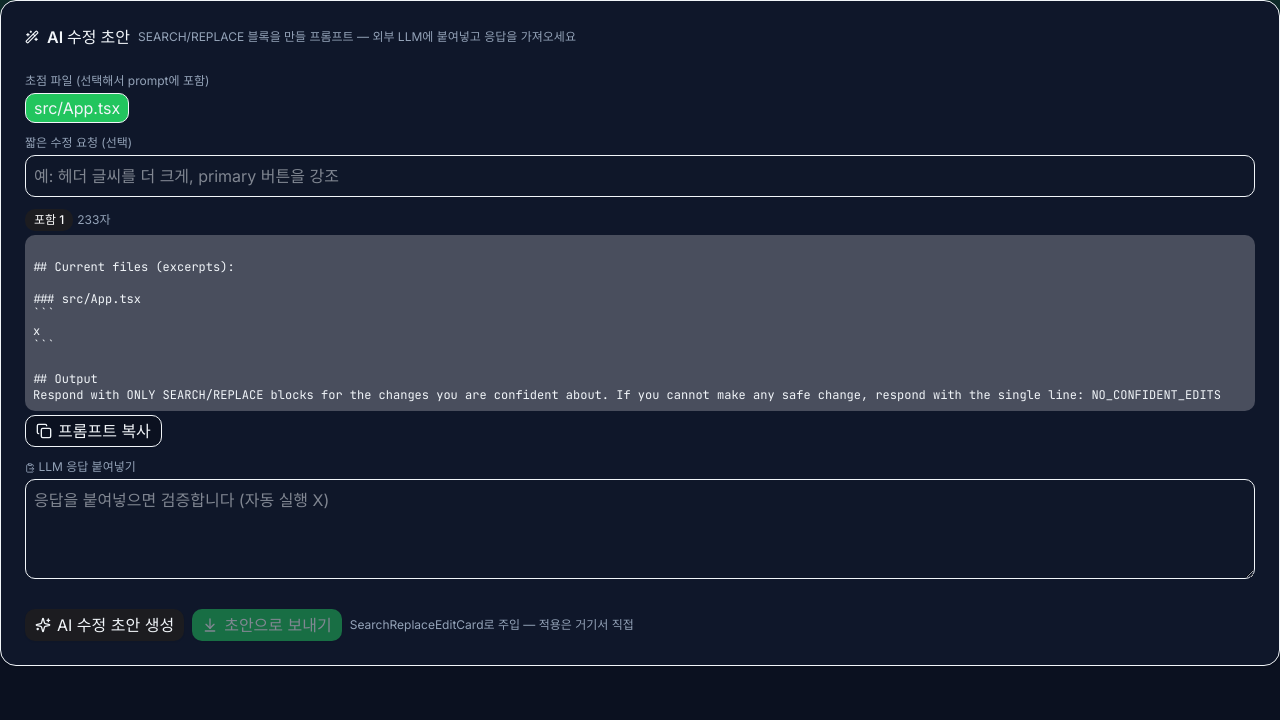
TurboEditDraftCard — OSS-H5 producer surface › (T11 — H6) generator 응답이 valid SEARCH/REPLACE가 아님 → 'invalid' 라벨 + 자동 주입 X
This screenshot has width=1280, height=720.
Step 1. Type "x" into the field with test id "turbo-edits-instruction-th11" → (640,176), box [25,155,1255,197]
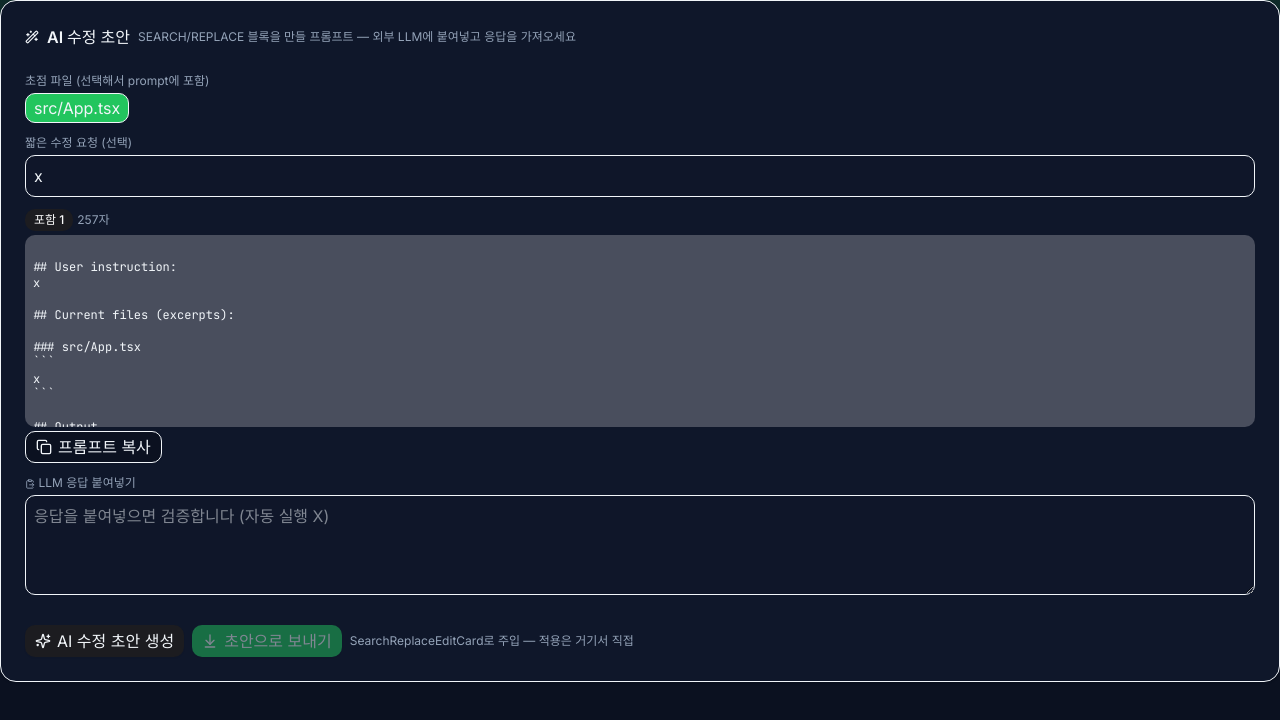
Step 2. Click the button with test id "turbo-edits-generate-th11" → (105,641), box [25,625,184,657]
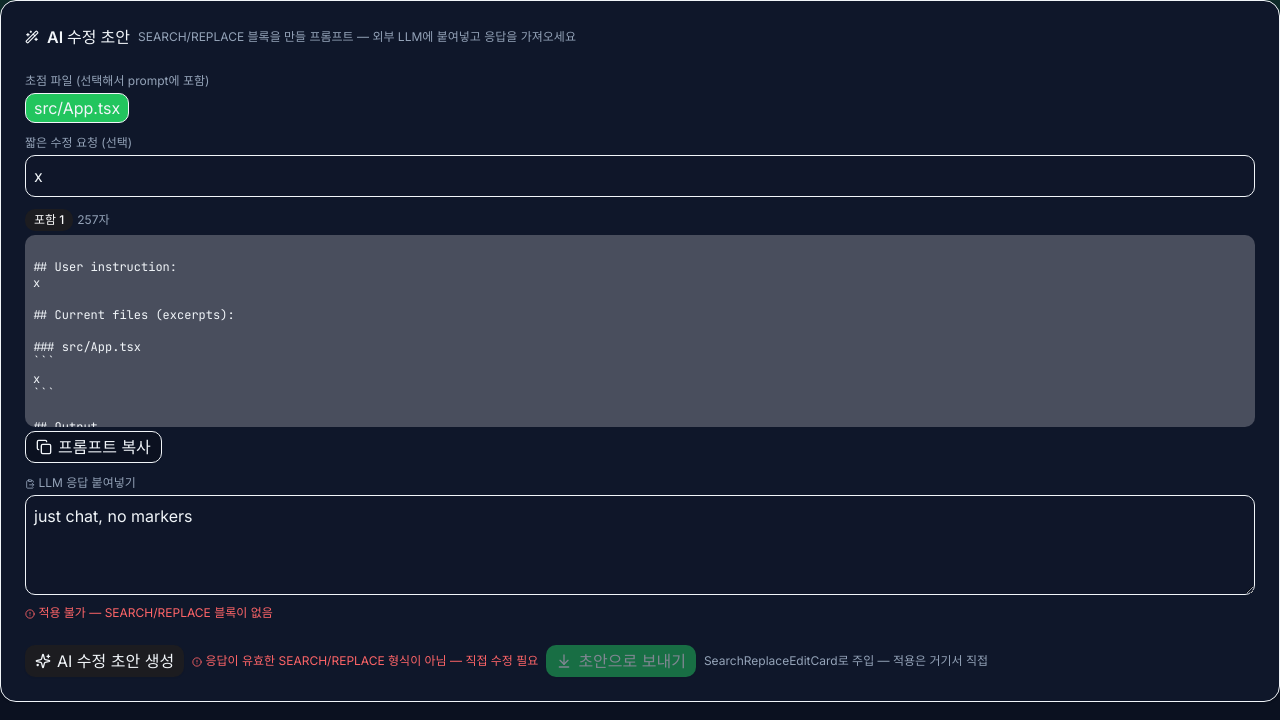
Check: the element with test id "turbo-edits-generate-invalid-th11" is shown, box [192,653,538,669]
